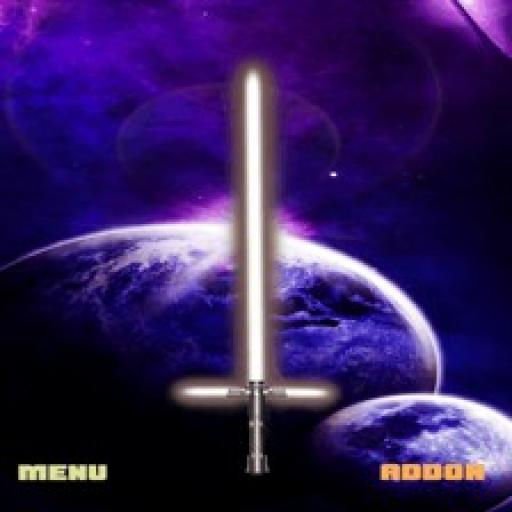lightsaber: (172, 68, 336, 478)
